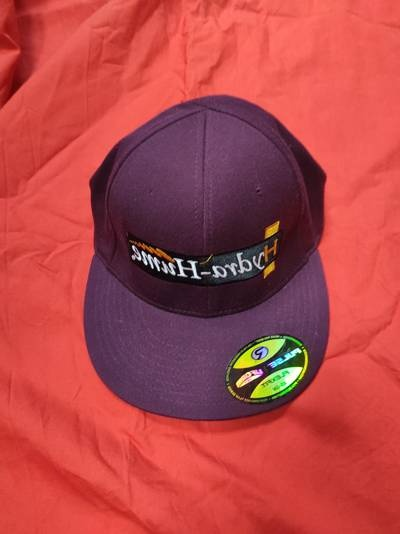Hat: (54, 64, 366, 449)
